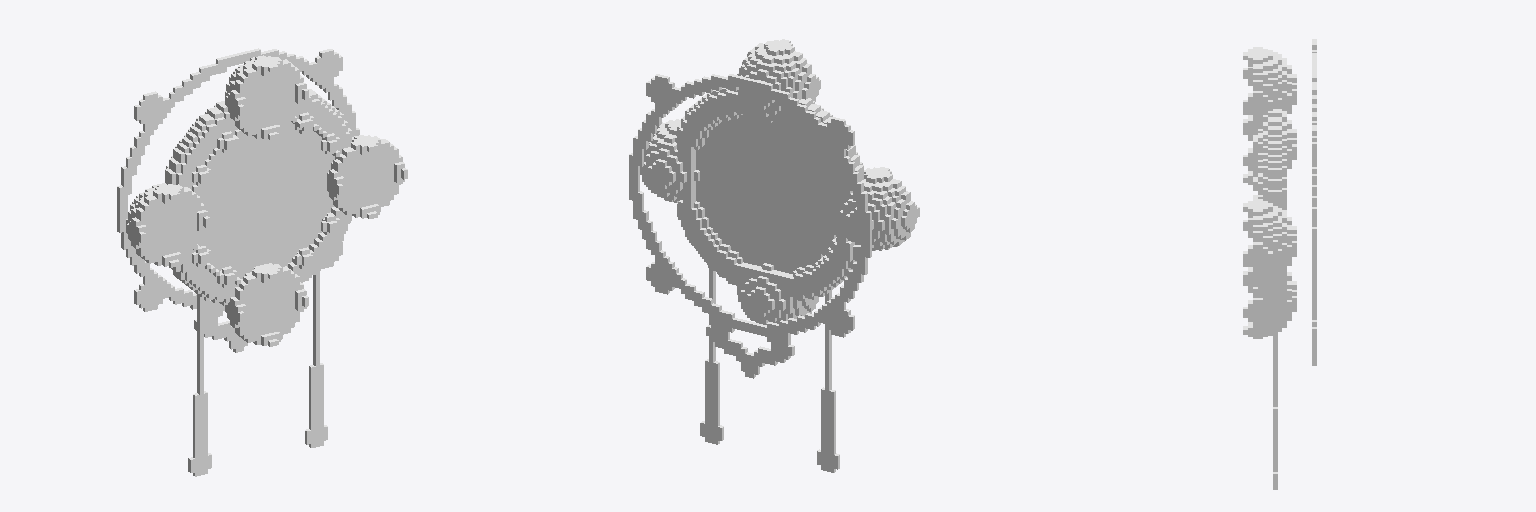
File: Wanos.obj
3 views of the same model, side by side, from view 1: azimuth 30°, elevation 25°; view 2: azimuth 150°, elevation 25°; view 3: azimuth 270°, elevation 25° (orthographic).
Visible parts, largest first — view 1: object 1; view 2: object 1; view 3: object 1.
Part boxes in pixels (x1,y1,x2,y2): object 1: (117,48,407,476); object 1: (629,39,919,472); object 1: (1243,39,1316,489).
Size of the model in its own units: 6.2 by 9 by 1.5.